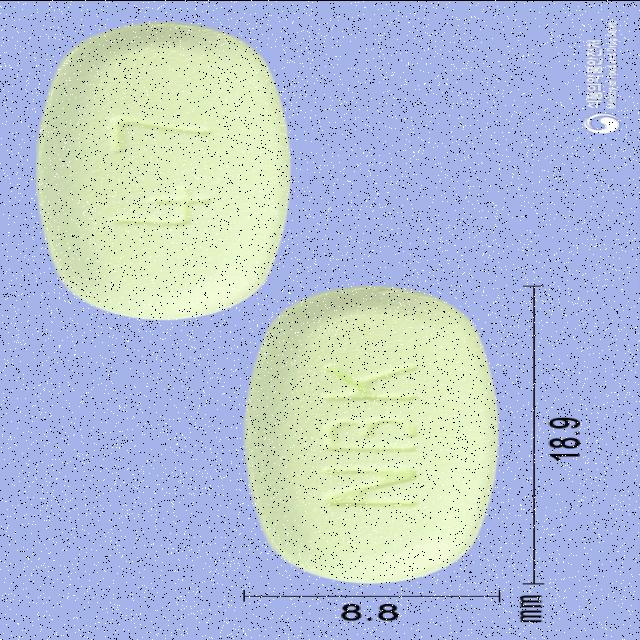Lathrocin-500mg: (241, 287, 501, 584), (34, 21, 284, 318)
